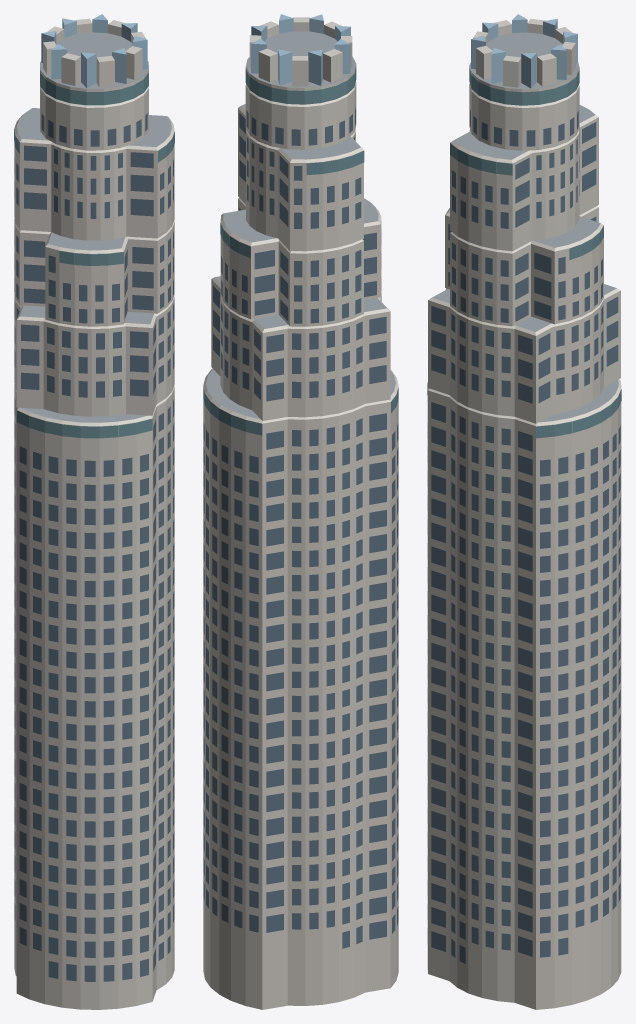
3 views of the same model, side by side, from view 1: azimuth 30°, elevation 25°; view 2: azimuth 150°, elevation 25°; view 3: azimuth 270°, elevation 25° (orthographic).
Visible parts, largest first — view 1: u-s-bank-tower; view 2: u-s-bank-tower; view 3: u-s-bank-tower.
Boxes of the visible parts, <box> form: u-s-bank-tower: <box>14,14,174,1009</box>; u-s-bank-tower: <box>203,14,398,1009</box>; u-s-bank-tower: <box>427,14,621,1009</box>.
Size of the model in its own units: 58.28 by 310 by 58.52.
